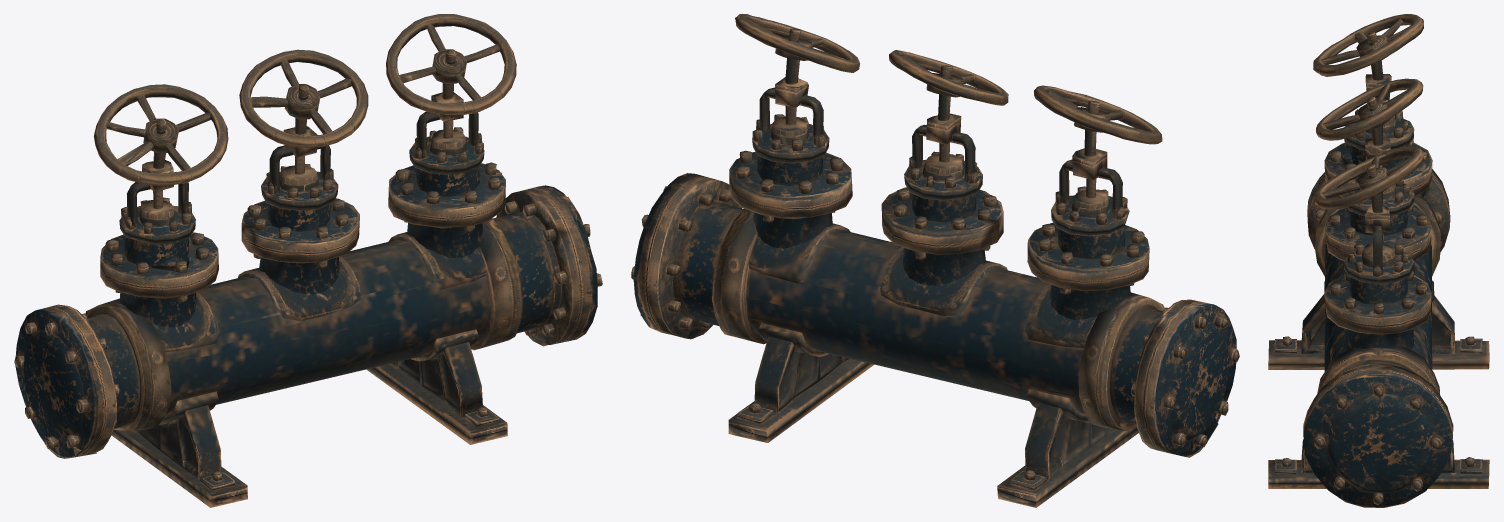
Rendered from Manifold.glb.
The picture shows the model from 3 angles, left to right: view 1: azimuth 30°, elevation 25°; view 2: azimuth 150°, elevation 25°; view 3: azimuth 270°, elevation 25°; orthographic projection. The views are drawn at different scales.
Size of the model in its own units: 1 by 0.6627 by 0.3927.
1 material, 1 textured.
